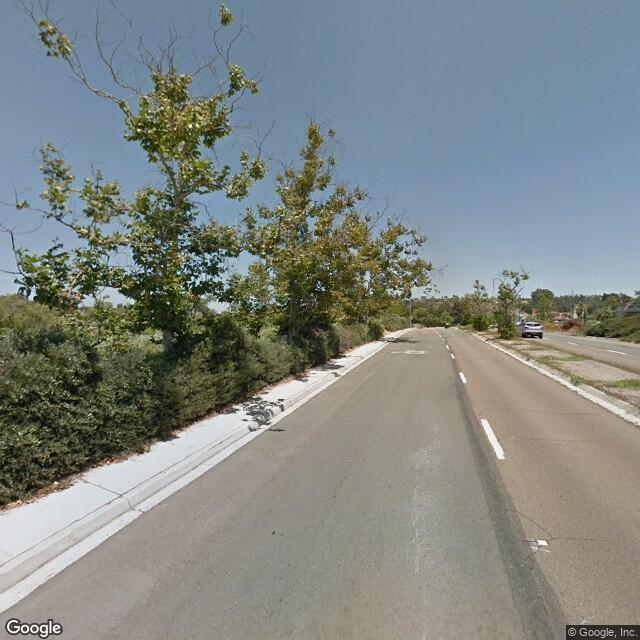litter: (51, 480, 60, 486), (105, 458, 112, 464)
